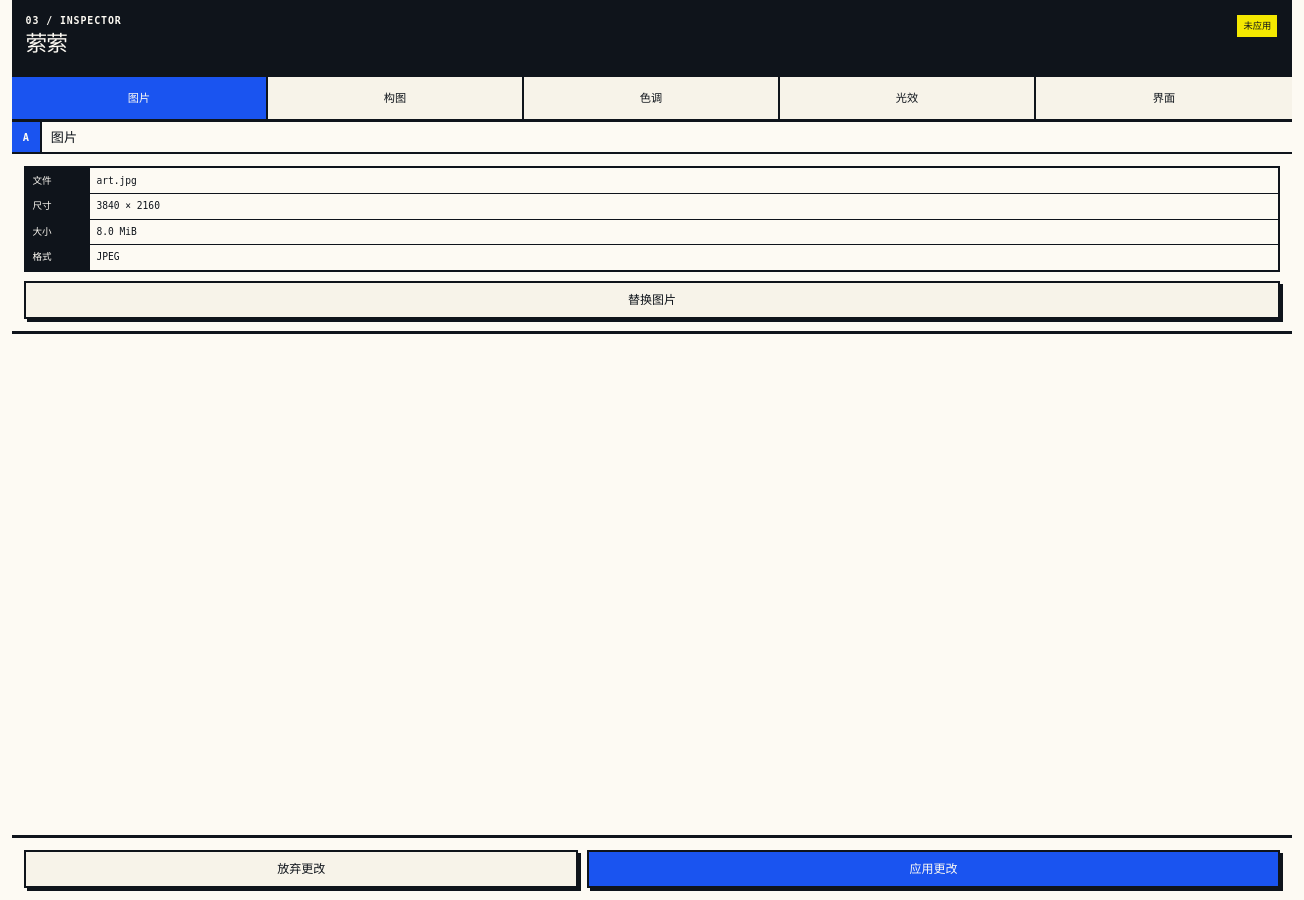
Test: ThemeInspector › shows a visible error when the replacement image picker cannot open
Click the button "替换图片" at (652, 300), box x1=24 y1=282 x2=1280 y2=320
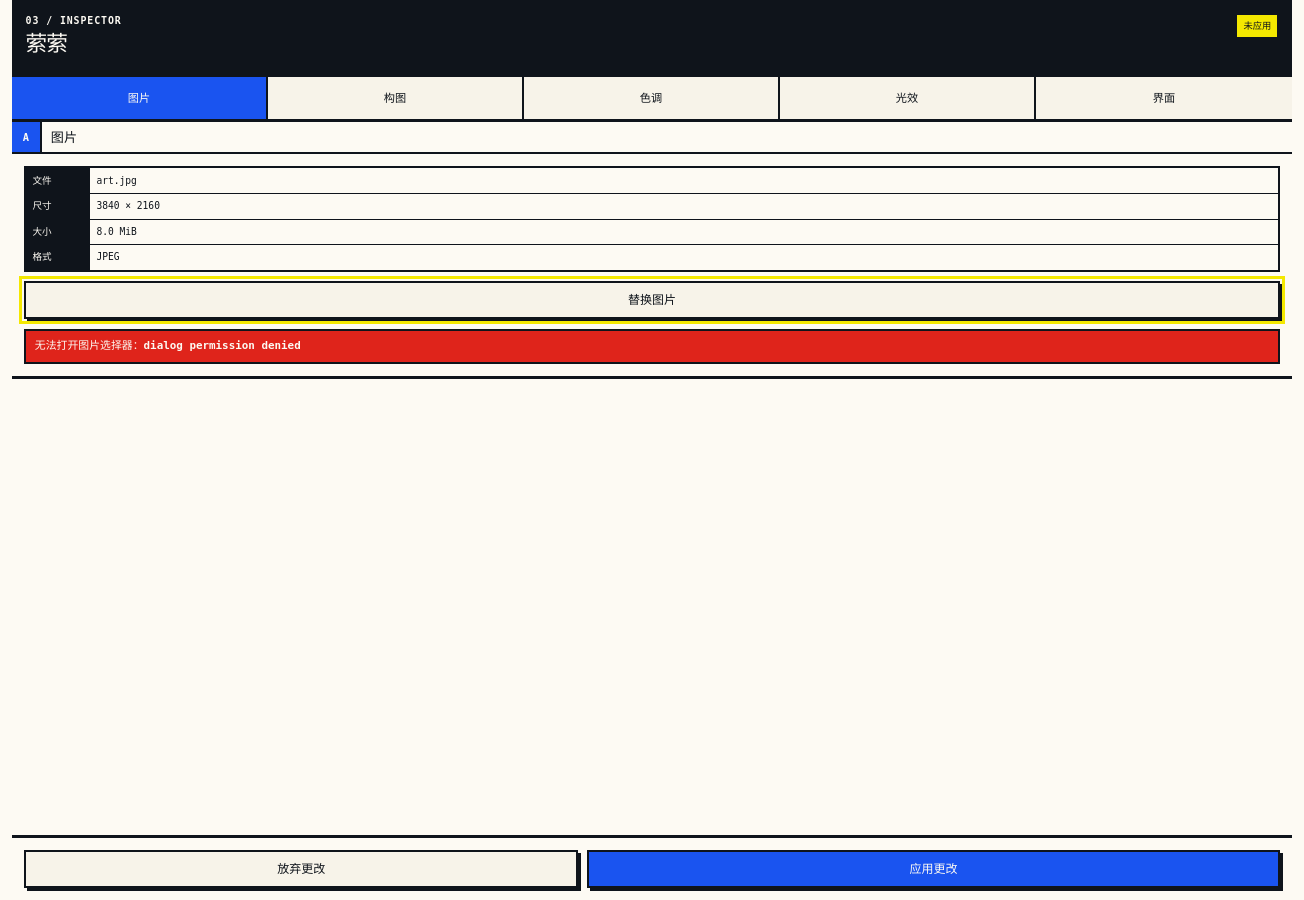
Result: the message reads "无法打开图片选择器：dialog permission denied" at x1=24 y1=329 x2=1280 y2=364
